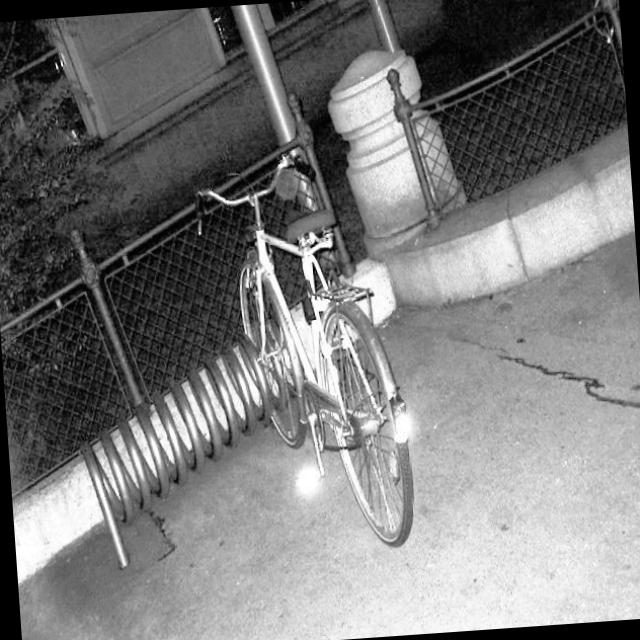Bicycle: (188, 103, 392, 588)
